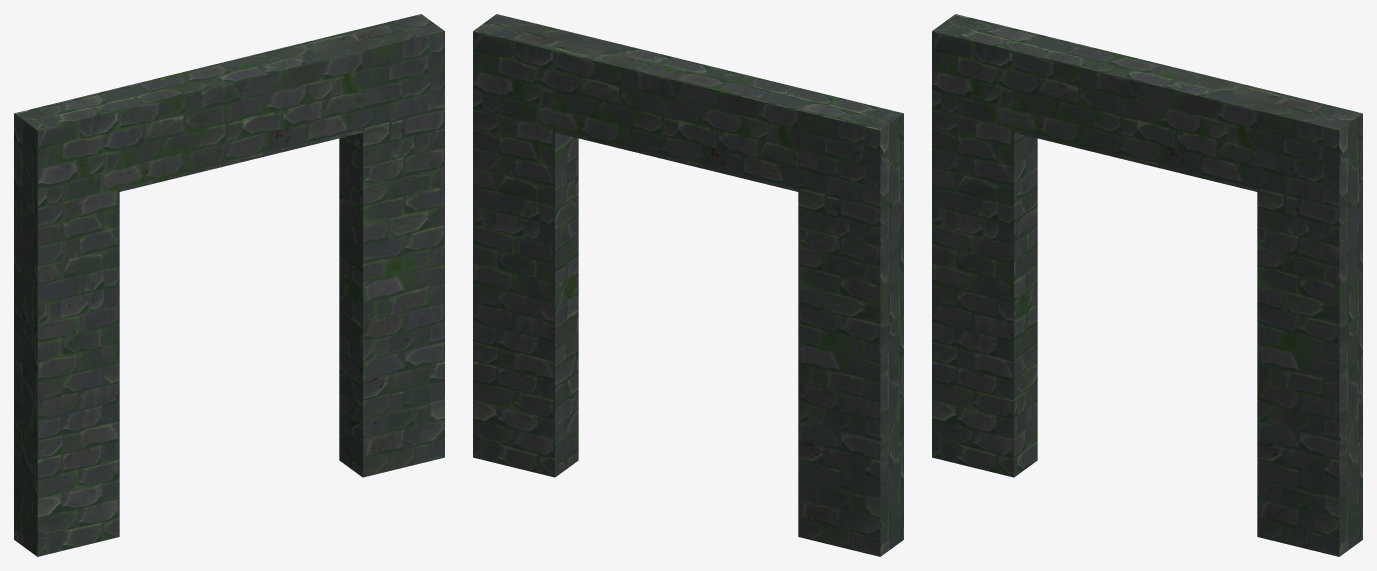
Rendered from doorway.fbx.
The picture shows the model from 3 angles, left to right: view 1: azimuth 30°, elevation 25°; view 2: azimuth 150°, elevation 25°; view 3: azimuth 330°, elevation 25°; orthographic projection.
Parts seen in each view (by area): view 1: doorway; view 2: doorway; view 3: doorway.
Part boxes in pixels (x1=…): doorway: x1=14, y1=14, x2=444, y2=556; doorway: x1=473, y1=14, x2=903, y2=556; doorway: x1=932, y1=14, x2=1362, y2=556.
Size of the model in its own units: 400 by 400 by 40.
1 material, 1 textured.
